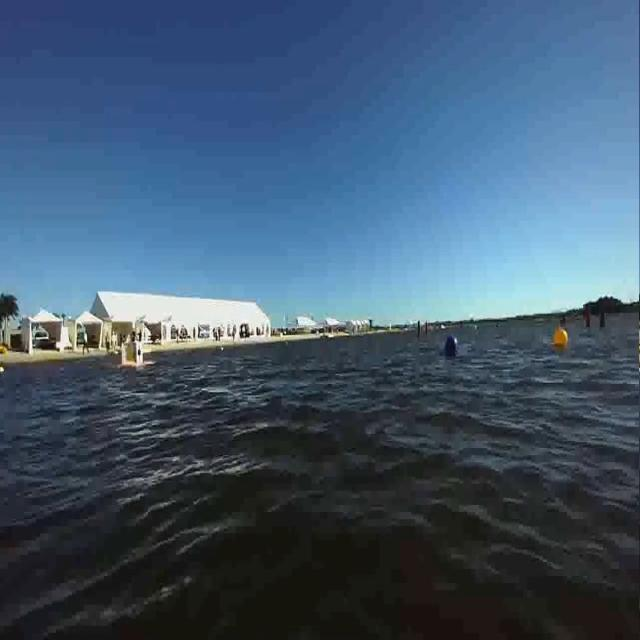blue-buoy: (441, 334, 457, 360)
yellow-buoy: (554, 327, 570, 350)
